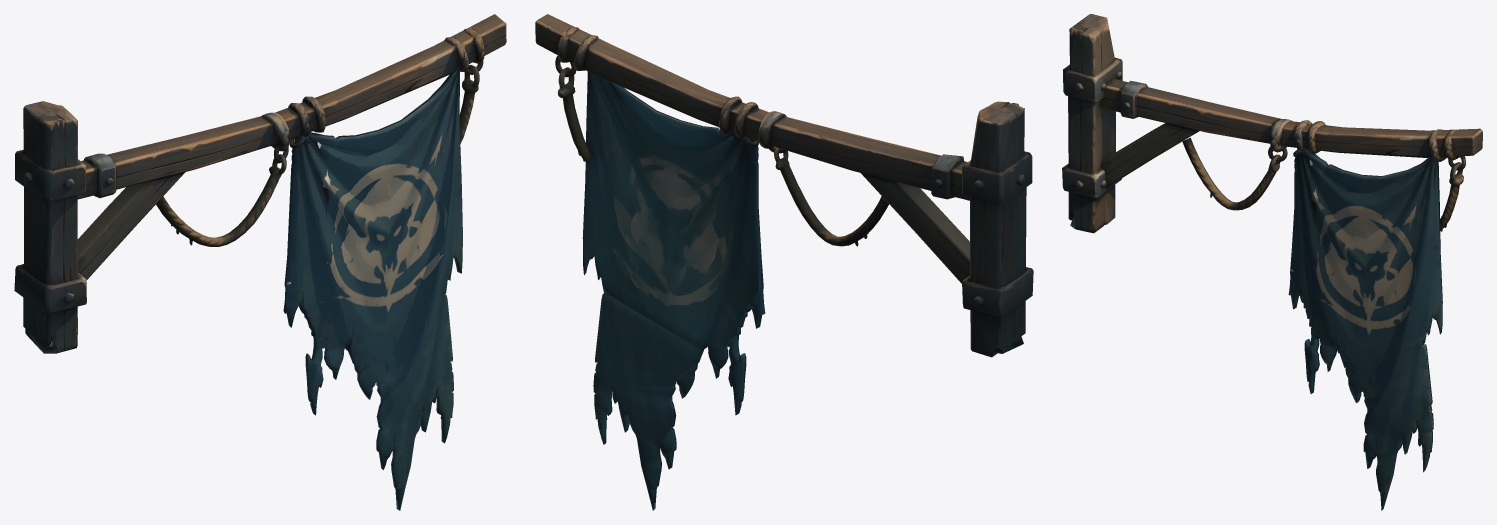
File: tripo_convert_db34c456-f39e-42b3-9cae-799a0067e93e.fbx
3 views of the same model, side by side, from view 1: azimuth 30°, elevation 25°; view 2: azimuth 150°, elevation 25°; view 3: azimuth 330°, elevation 25° (orthographic). The views are drawn at different scales.
Visible parts, largest first — view 1: tripo_node_db34c456; view 2: tripo_node_db34c456; view 3: tripo_node_db34c456.
Part boxes in pixels (x1,y1,x2,y2): tripo_node_db34c456: (14,14,506,510); tripo_node_db34c456: (535,14,1033,510); tripo_node_db34c456: (1062,14,1482,510).
Size of the model in its own units: 0.9995 by 0.9614 by 0.1353.
Materials: 1 (1 with a texture image).
